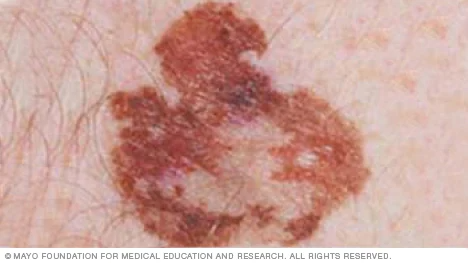Melanoma: (111, 1, 369, 247)
